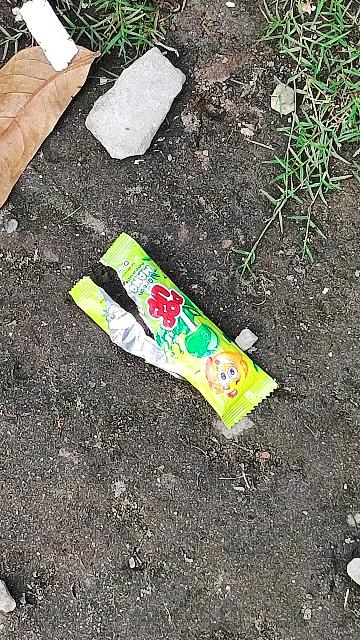packet: (58, 231, 301, 447)
